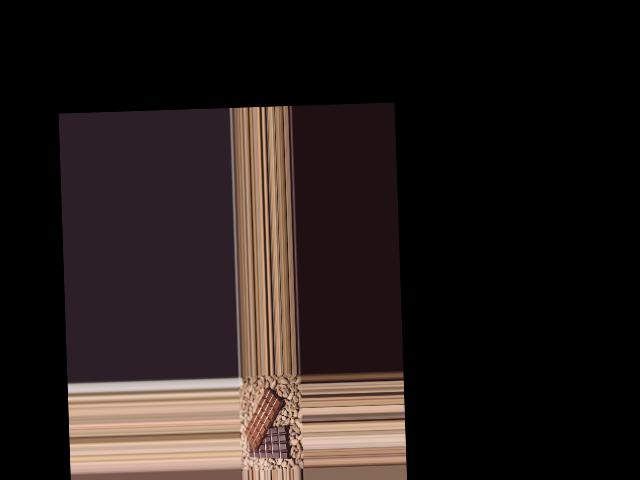chocolate: (246, 425, 292, 464)
